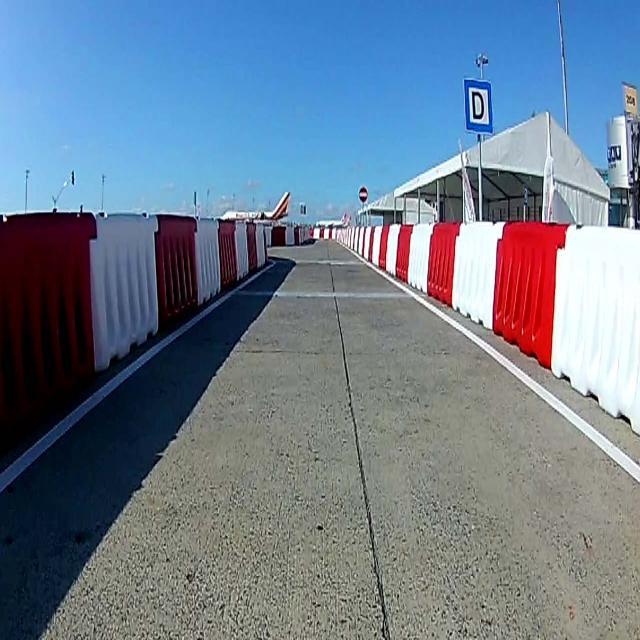durak: (464, 78, 494, 134)
girisyok: (358, 184, 368, 203)
